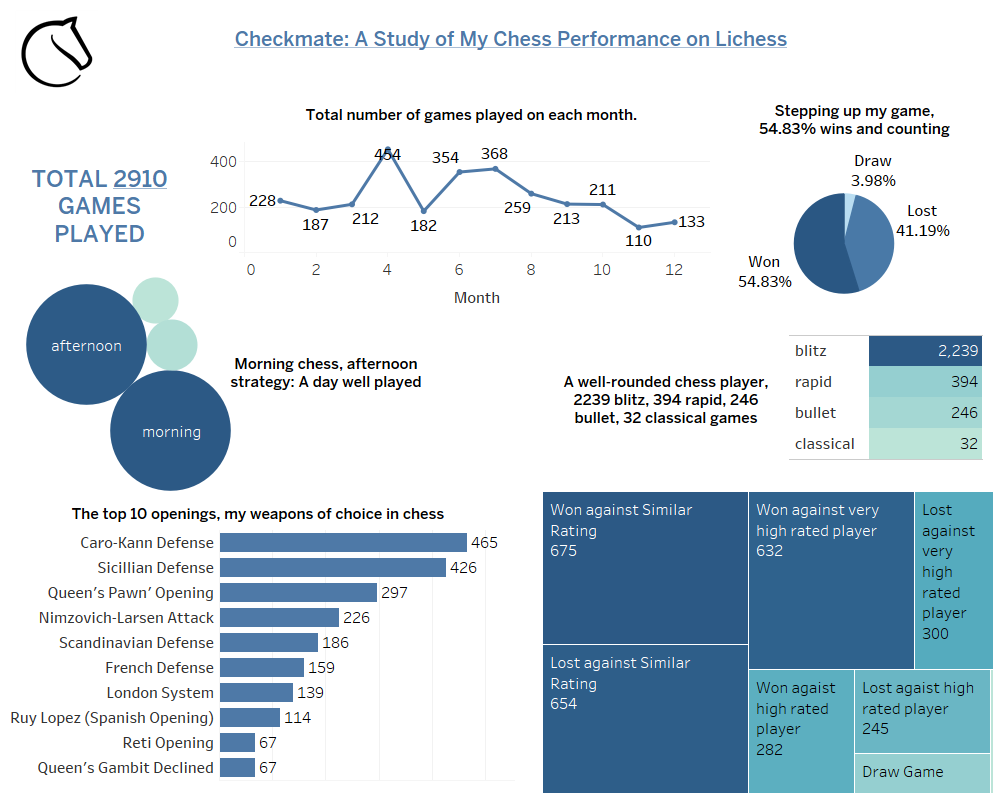

Layout of this report page (visuals, bound fields, positions):
{"tool":"tableau","page":{"name":"Dashboard 1","canvas":[1000,800],"ordinal":0},"visuals":[{"type":"text","box":[190,9,642,60]},{"type":"image","box":[15,10,108,107]},{"type":"text","box":[752,86,205,67]},{"type":"text","box":[301,93,341,44]},{"type":"worksheet","title":"Games Played by Month","mark":"Automatic","rows":["Jay_Games.csv_FDA1A89A6C6C43FCBCDA535C7579BB4F"],"cols":["date_played"],"box":[210,142,500,173]},{"type":"worksheet","title":"Won/Loss/Draw","mark":"Pie","box":[723,143,251,201]},{"type":"text","box":[16,159,167,96]},{"type":"worksheet","title":"Sheet 7","mark":"Square","rows":["time_control"],"box":[789,335,194,126]},{"type":"text","box":[225,351,202,44]},{"type":"text","box":[547,360,238,79]},{"type":"text","box":[48,486,420,56]},{"type":"worksheet","title":"Won agaist which kind off player","mark":"Automatic","box":[538,487,461,310]},{"type":"worksheet","title":"Top 10 Chess Openings","mark":"Automatic","rows":["Opening"],"cols":["Jay_Games.csv_FDA1A89A6C6C43FCBCDA535C7579BB4F"],"box":[7,530,507,266]}]}

Visuals, with their boxes in screenshot pixels (x1, y1, x2, y2), scaled from the page's 1000x800 canvas onto the 1000x800 screenshot:
text: 190, 9, 832, 69
image: 15, 10, 123, 117
text: 752, 86, 957, 153
text: 301, 93, 642, 137
"Games Played by Month" worksheet: 210, 142, 710, 315
"Won/Loss/Draw" worksheet (Pie marks): 723, 143, 974, 344
text: 16, 159, 183, 255
"Sheet 7" worksheet (Square marks): 789, 335, 983, 461
text: 225, 351, 427, 395
text: 547, 360, 785, 439
text: 48, 486, 468, 542
"Won agaist which kind off player" worksheet: 538, 487, 999, 797
"Top 10 Chess Openings" worksheet: 7, 530, 514, 796
